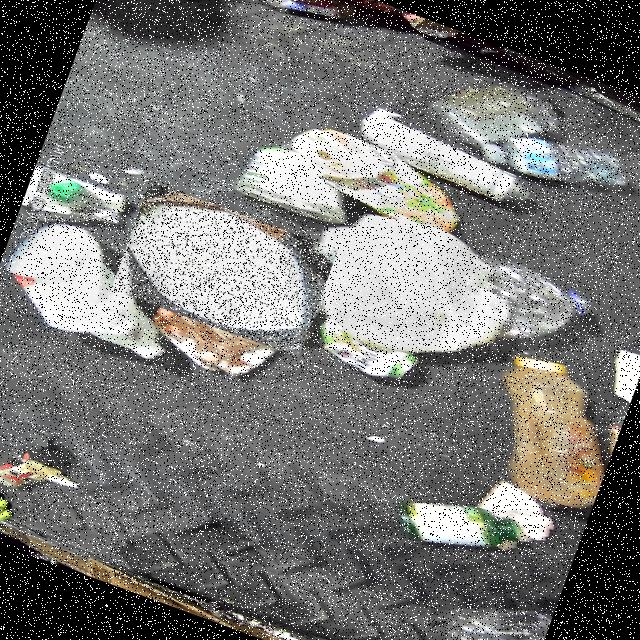milk-jug: (110, 180, 339, 358)
